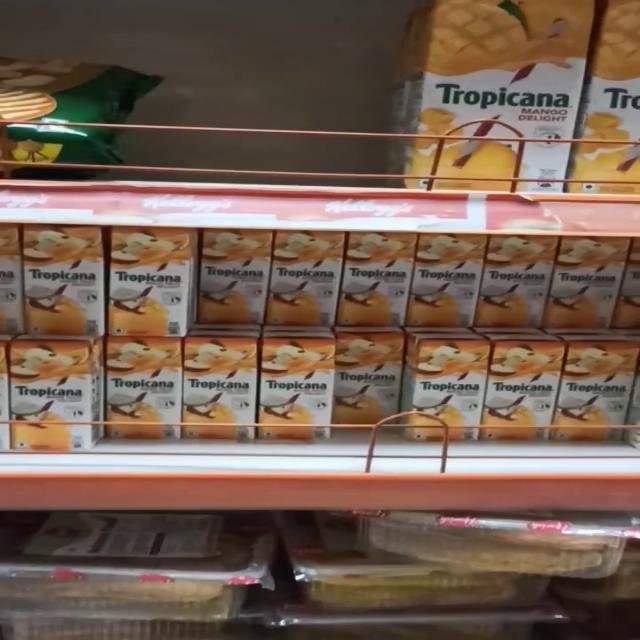Tropicana: (7, 337, 98, 446), (106, 226, 192, 336), (18, 228, 106, 333), (407, 229, 485, 335), (471, 228, 549, 334), (254, 336, 331, 441), (336, 332, 409, 441), (194, 228, 272, 326), (103, 336, 183, 429), (563, 339, 633, 443), (485, 338, 553, 444), (407, 338, 477, 439), (554, 234, 622, 336), (185, 337, 251, 438), (270, 232, 338, 328), (344, 234, 412, 328)
